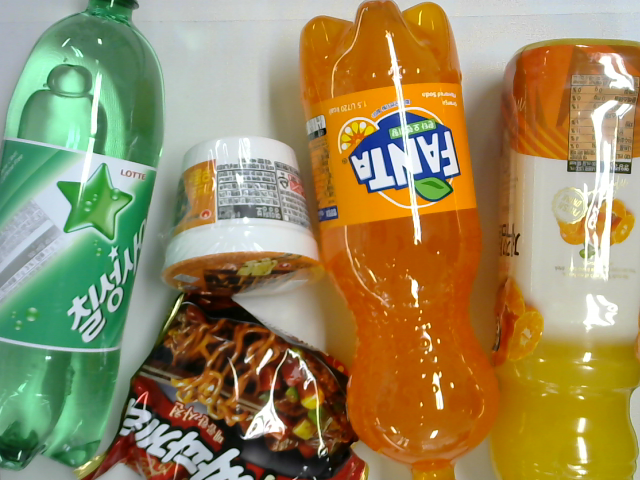Chilseong_Cider_1.5L: (1, 1, 164, 469)
Hwanta_Orange_1.5L: (297, 1, 503, 480)
Jeju_Tangerine_1.5L: (487, 40, 640, 479)
Sichuan_Chapaghetti: (84, 292, 368, 480)
Udongmini: (161, 137, 327, 300)
